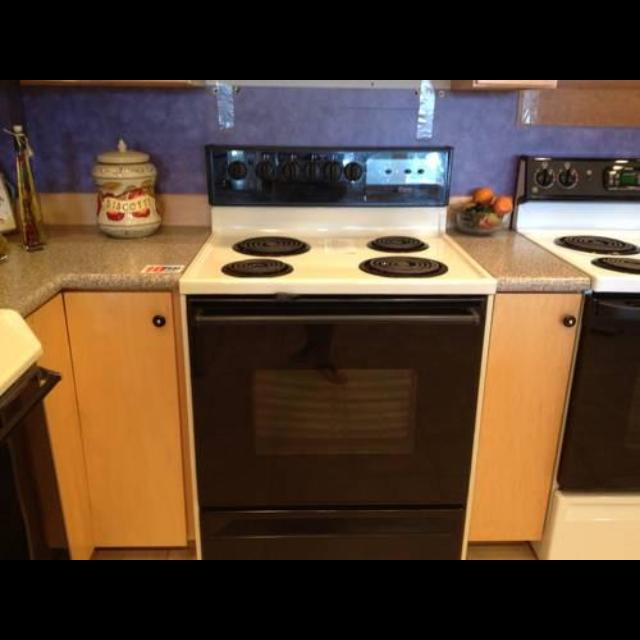Oven: (168, 178, 492, 560)
